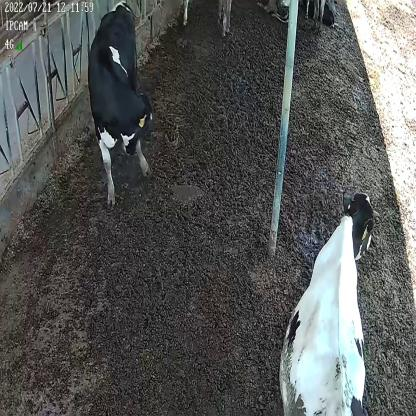cow: (278, 188, 382, 416), (87, 0, 154, 203)
